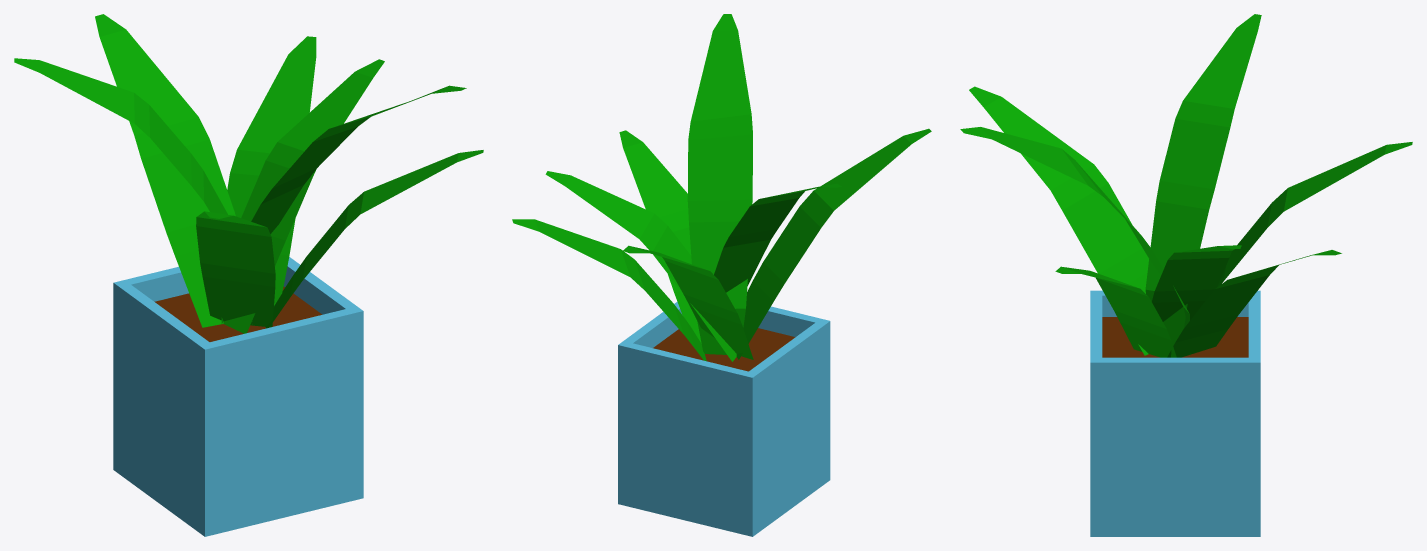
File: vase-hospital.fbx
3 views of the same model, side by side, from view 1: azimuth 30°, elevation 25°; view 2: azimuth 150°, elevation 25°; view 3: azimuth 270°, elevation 25° (orthographic). The views are drawn at different scales.
Visible parts, largest first — view 1: vase-hospital; view 2: vase-hospital; view 3: vase-hospital.
Part boxes in pixels (box(x1,y1,x2,y2)): vase-hospital: box(14, 14, 483, 536); vase-hospital: box(512, 14, 931, 536); vase-hospital: box(960, 14, 1412, 536).
Size of the model in its own units: 204 by 241 by 235.
